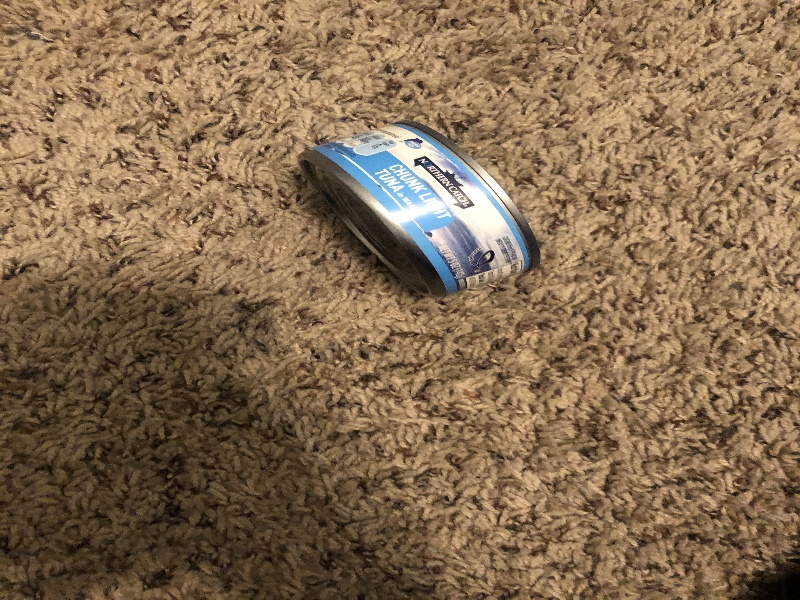metal: (296, 117, 546, 300)
